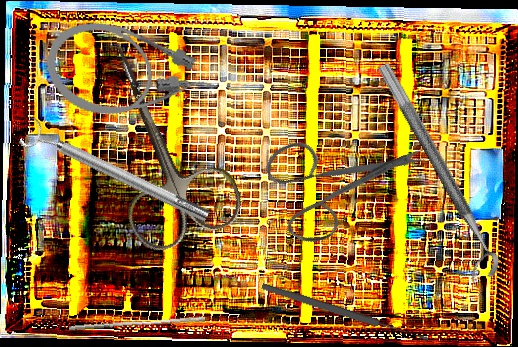Cannula: (36, 9, 224, 144)
Fixation Ring: (359, 61, 506, 286), (17, 114, 215, 233)
Iris Scissors: (67, 21, 249, 259), (240, 79, 433, 275)
Pusher: (68, 311, 206, 337)
Surgical Spoon: (260, 281, 430, 345)
